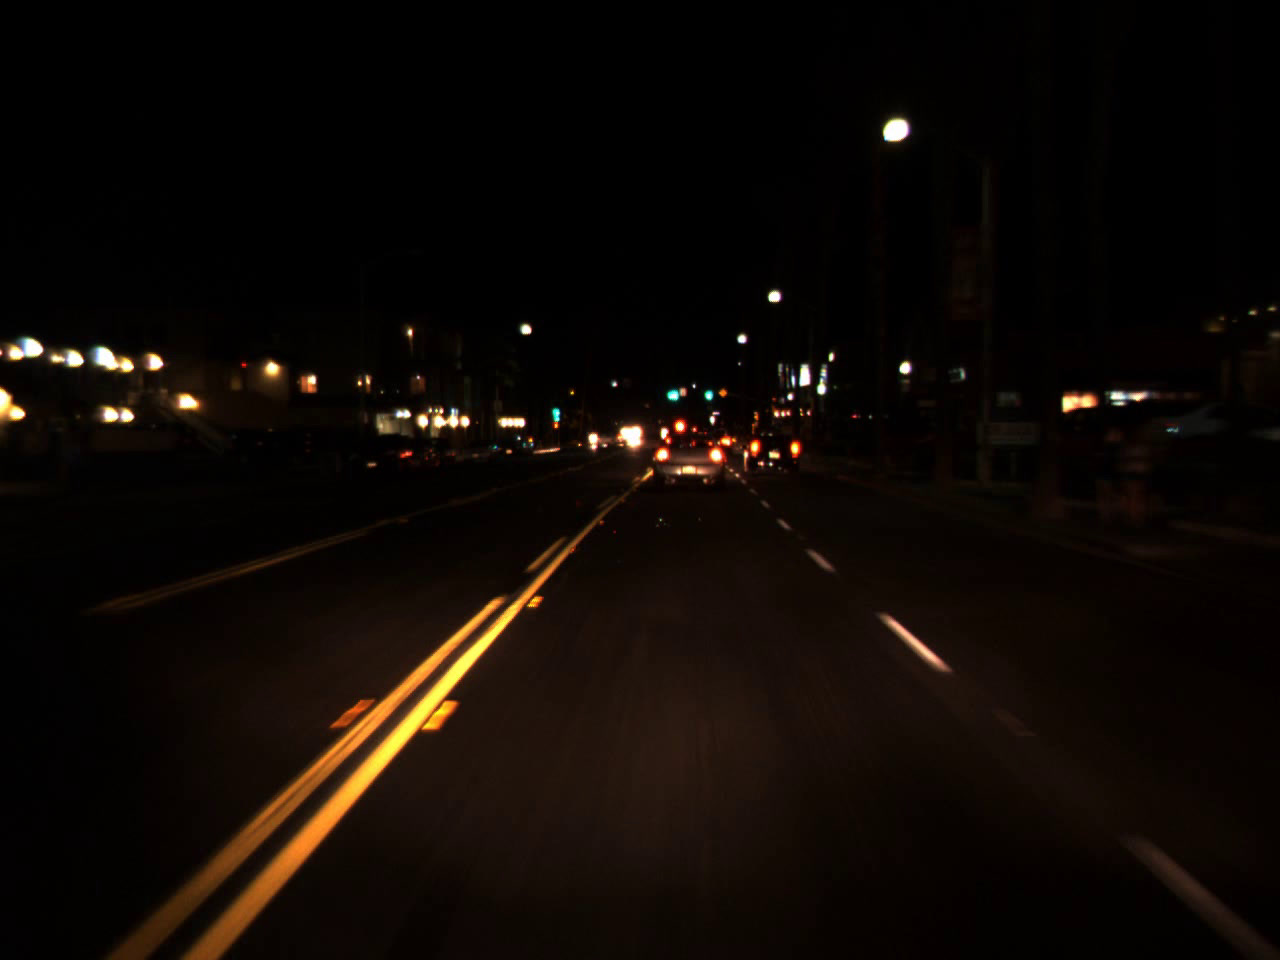go: (663, 375, 681, 405), (550, 392, 560, 425), (703, 383, 713, 401)
